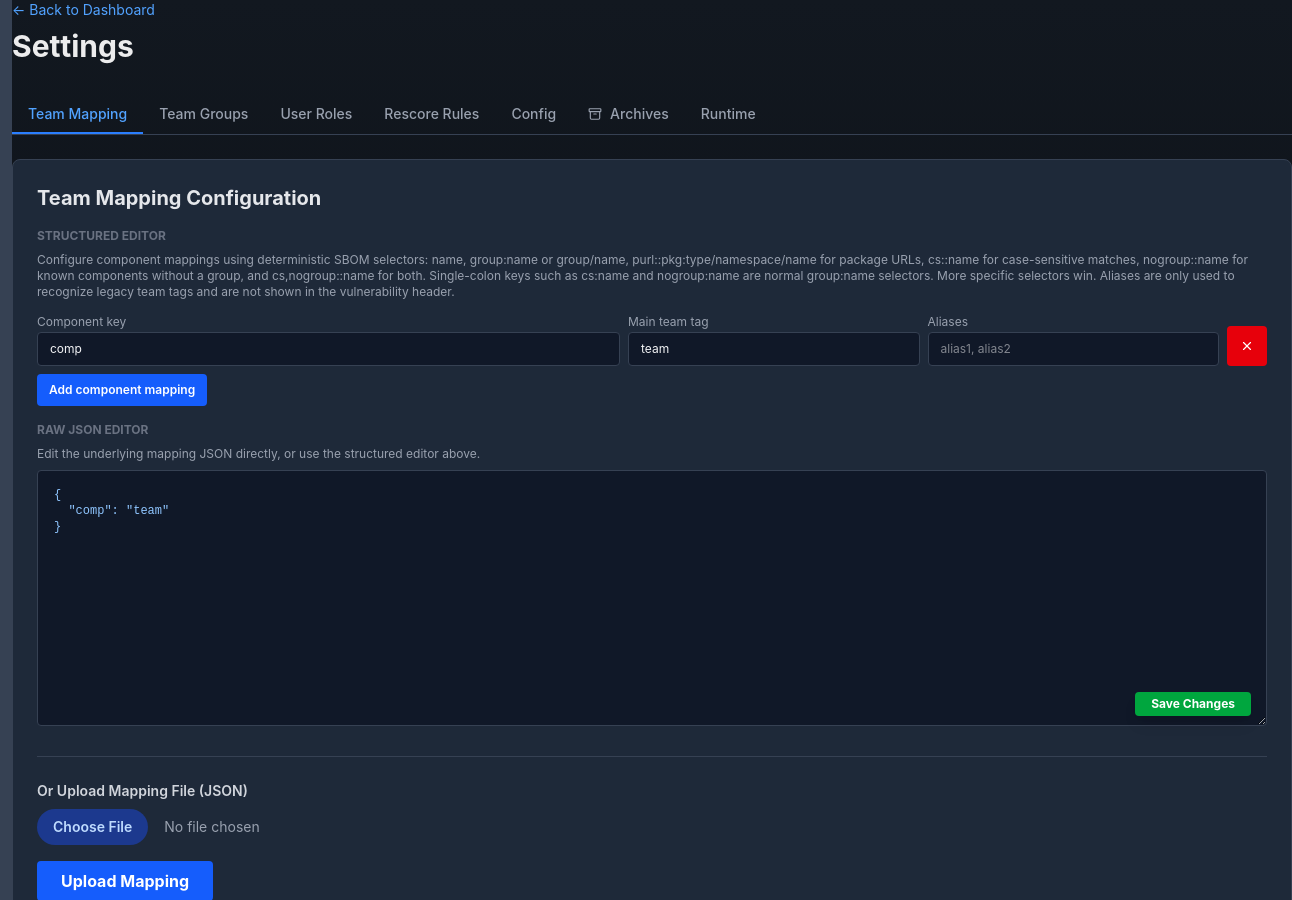
Test: Settings.vue › shows live backend runtime and capacity information to reviewers
Click the button "Runtime".
click(728, 115)  # box [685,96,772,134]
(page scrolled)
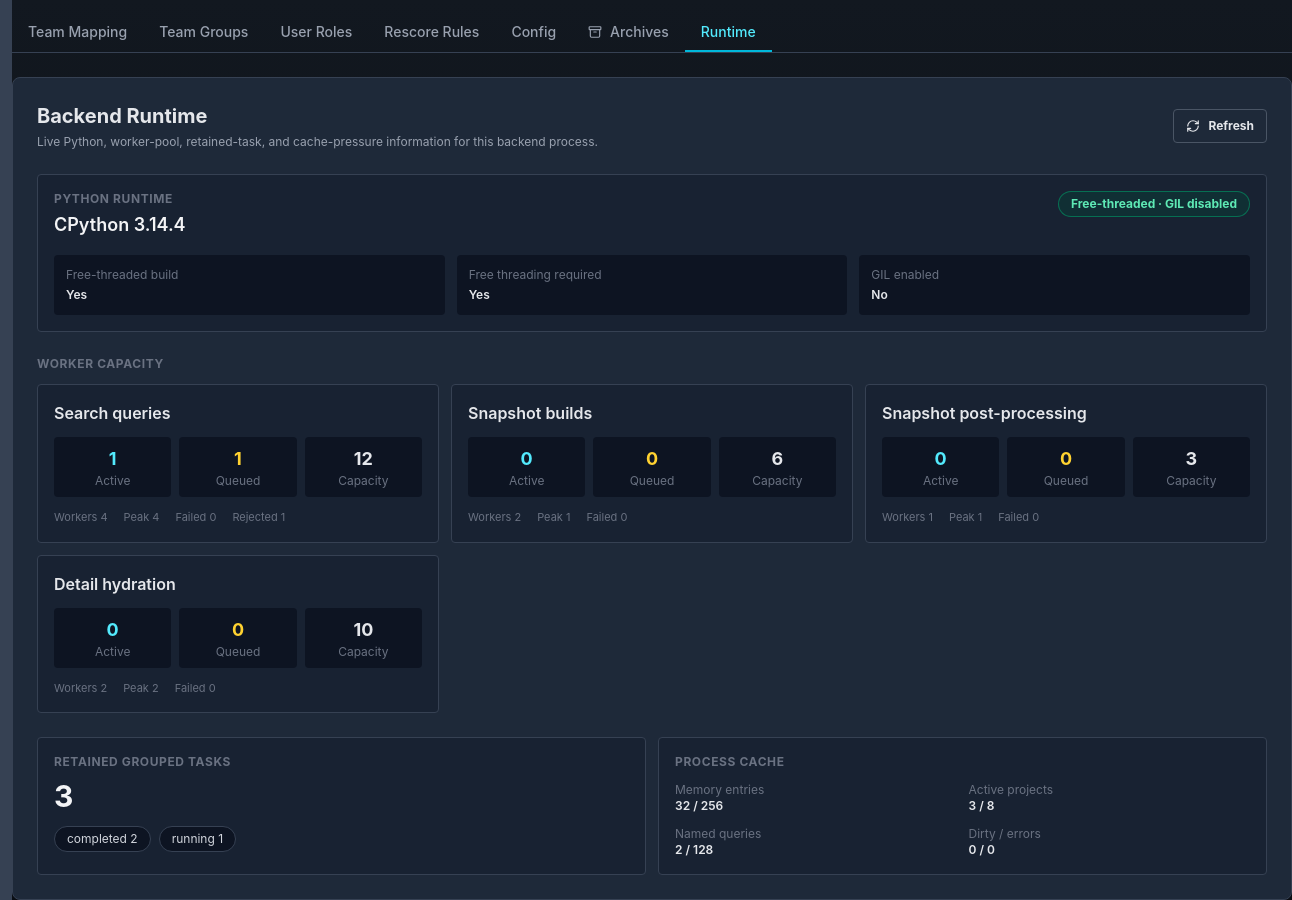
Now the text with test id "backend-python-version" reads "CPython 3.14.4", box [54,214,186,235]
Now the text with test id "backend-gil-state" shows "GIL disabled", box [1071,196,1237,211]
Now the element with test id "backend-executor-queries" shows "Capacity", box [338,473,388,488]
